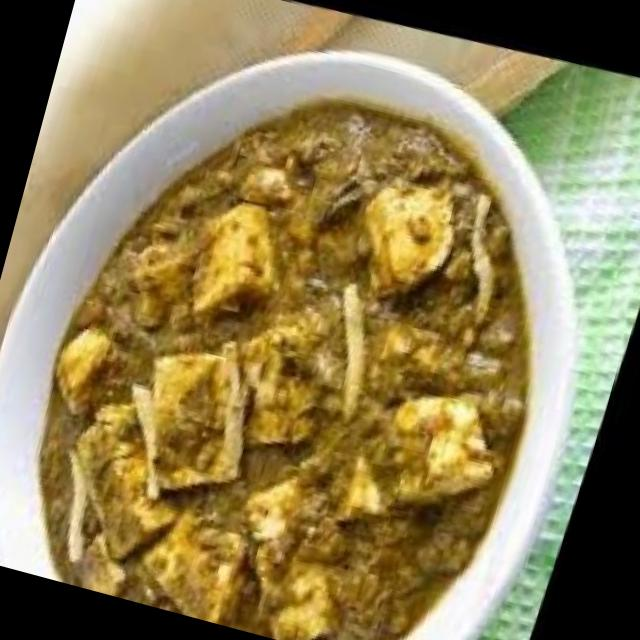palak_paneer: (0, 26, 619, 640)
